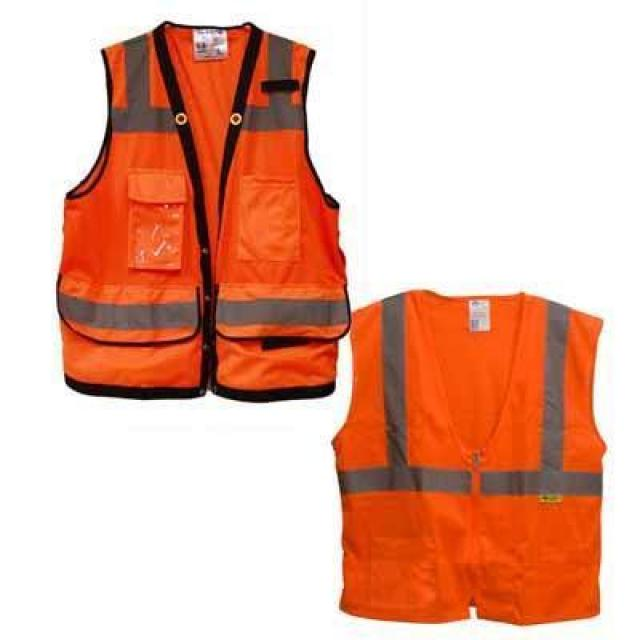Vest: (52, 18, 350, 400), (332, 285, 606, 627)
